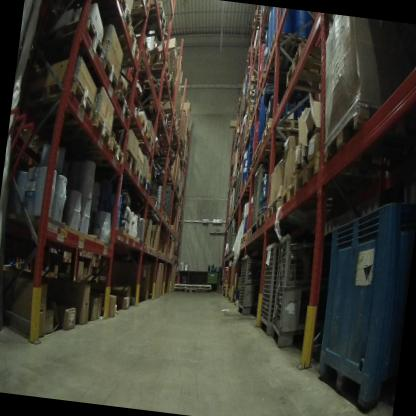pallet: (320, 92, 387, 178), (278, 176, 354, 226), (28, 73, 98, 125), (283, 35, 334, 104), (42, 11, 108, 63), (263, 28, 308, 82), (259, 109, 305, 153), (291, 150, 325, 207), (100, 20, 143, 65), (124, 75, 178, 105), (106, 72, 137, 124), (84, 0, 142, 27), (129, 52, 173, 84), (79, 111, 114, 151), (249, 140, 285, 170), (116, 129, 156, 154), (134, 10, 166, 41), (99, 137, 128, 168), (98, 56, 121, 94), (131, 105, 152, 139), (153, 103, 183, 126), (169, 280, 213, 295), (241, 45, 265, 70), (265, 193, 282, 227), (146, 0, 169, 25), (119, 149, 138, 174), (139, 173, 155, 197), (250, 7, 264, 30), (131, 165, 145, 184), (256, 209, 268, 230), (181, 286, 199, 299), (134, 0, 154, 10), (245, 87, 255, 100), (244, 226, 252, 241), (158, 209, 168, 221), (240, 229, 246, 248)
stillage: (263, 231, 336, 371), (249, 236, 286, 337), (233, 248, 265, 319), (246, 157, 273, 232)
